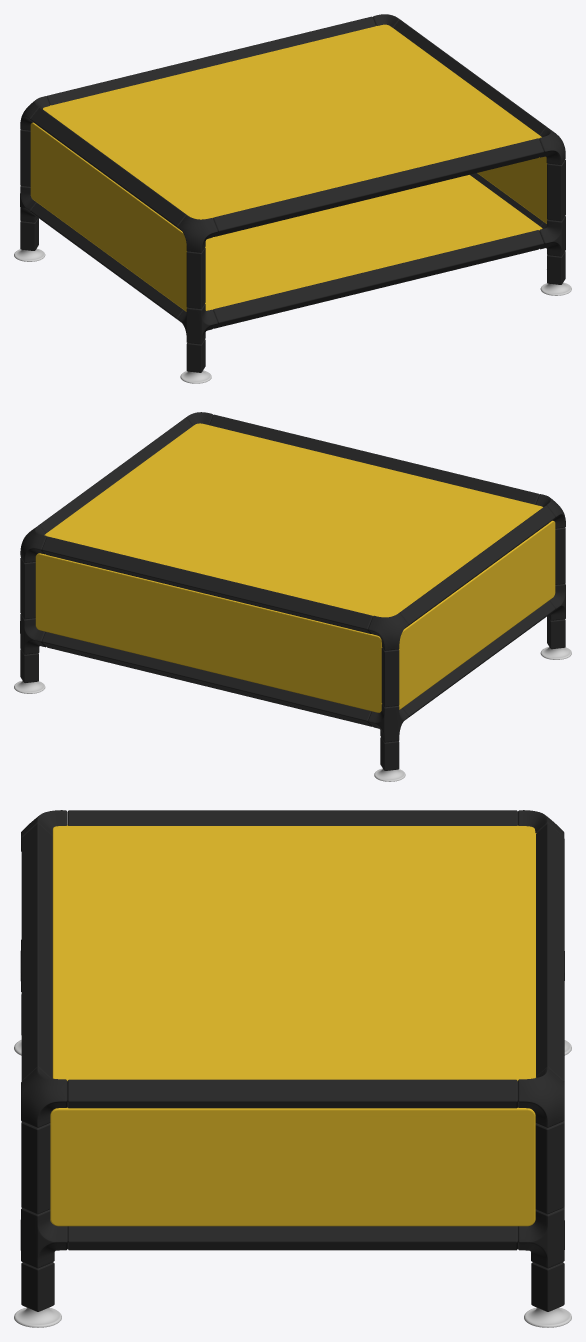
3 views of the same model, one above another, from view 1: azimuth 30°, elevation 25°; view 2: azimuth 150°, elevation 25°; view 3: azimuth 270°, elevation 25° (orthographic). The views are drawn at different scales.
Parts seen in each view (by area): view 1: 479x374x79; view 2: 479x374x79; view 3: 479x374x79.
Boxes of the visible parts, x1,y1,x2,y2 form: 479x374x79: [14, 14, 571, 383]; 479x374x79: [14, 412, 571, 781]; 479x374x79: [14, 810, 571, 1327].
Bounding box in the file's own units: 0.5689 × 0.2183 × 0.4632.
